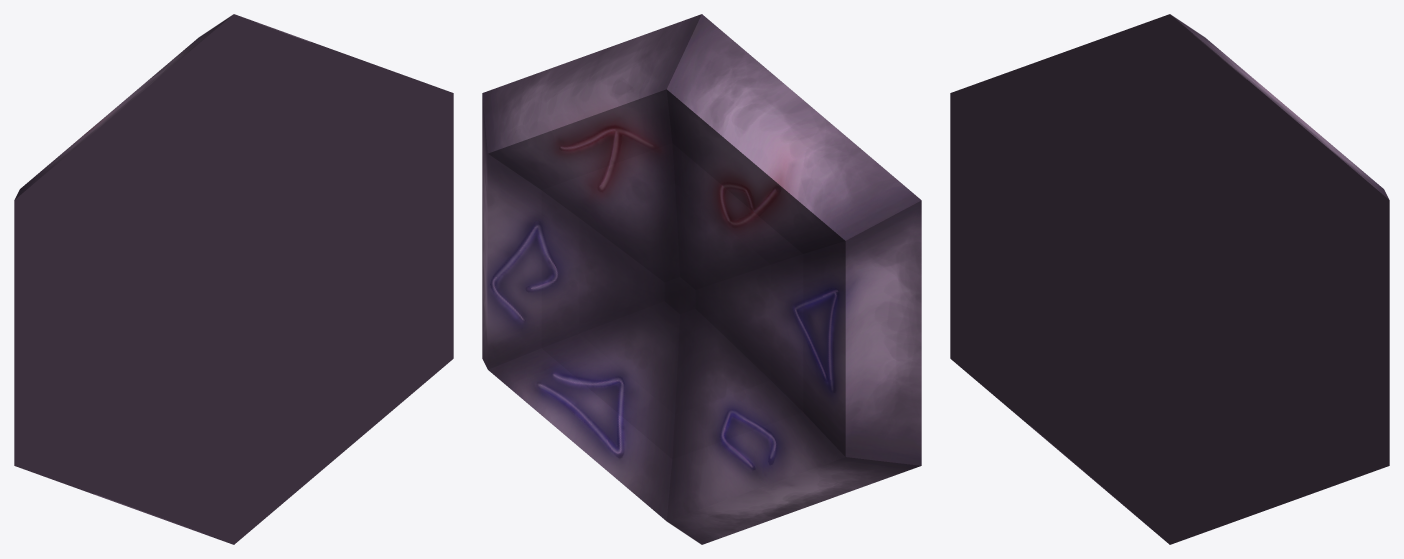
File: restore_fountain.obj
3 renders of one model, left to right at view 1: azimuth 30°, elevation 25°; view 2: azimuth 150°, elevation 25°; view 3: azimuth 330°, elevation 25°, orthographic.
Visible parts, largest first — view 1: Fuente_Circle; view 2: Fuente_Circle; view 3: Fuente_Circle.
Boxes of the visible parts, left/top/right/bottom form: Fuente_Circle: left=14, top=14, right=453, bottom=544; Fuente_Circle: left=482, top=14, right=921, bottom=544; Fuente_Circle: left=950, top=14, right=1389, bottom=544.
Size of the model in its own units: 1.73 by 2 by 0.2411.
